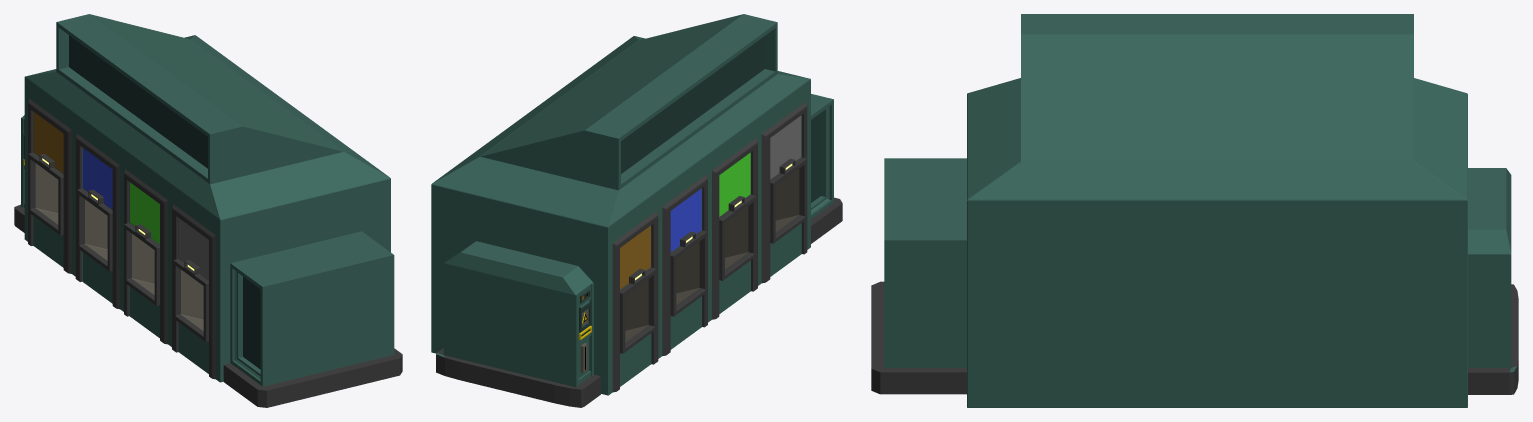
The model's file is zona de  compra .fbx.
3 renders of one model, left to right at view 1: azimuth 30°, elevation 25°; view 2: azimuth 150°, elevation 25°; view 3: azimuth 270°, elevation 25°, orthographic. The views are drawn at different scales.
Visible parts, largest first — view 1: Cube.002; view 2: Cube.002; view 3: Cube.002.
Part boxes in pixels (x1=…): Cube.002: x1=14, y1=14, x2=402, y2=407; Cube.002: x1=431, y1=14, x2=842, y2=407; Cube.002: x1=871, y1=14, x2=1518, y2=407.
Bounding box in the file's own units: 423 × 528 × 1050.
